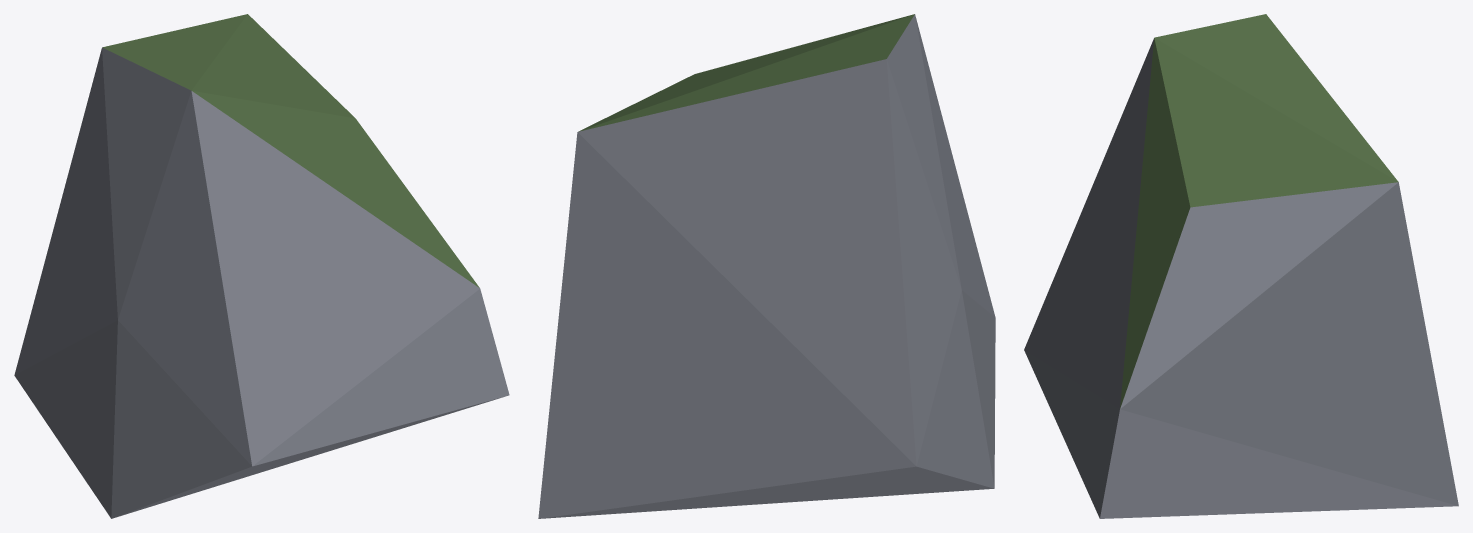
The model's file is Rock_Moss_2.lod2.glb.
The picture shows the model from 3 angles, left to right: view 1: azimuth 30°, elevation 25°; view 2: azimuth 150°, elevation 25°; view 3: azimuth 270°, elevation 25°; orthographic projection. The views are drawn at different scales.
Parts seen in each view (by area): view 1: Rock_Moss_2; view 2: Rock_Moss_2; view 3: Rock_Moss_2.
Boxes of the visible parts, x1=… form: Rock_Moss_2: x1=14, y1=14, x2=509, y2=518; Rock_Moss_2: x1=538, y1=14, x2=995, y2=518; Rock_Moss_2: x1=1024, y1=14, x2=1458, y2=518.
Size of the model in its own units: 0.6123 by 0.6497 by 0.6269.
